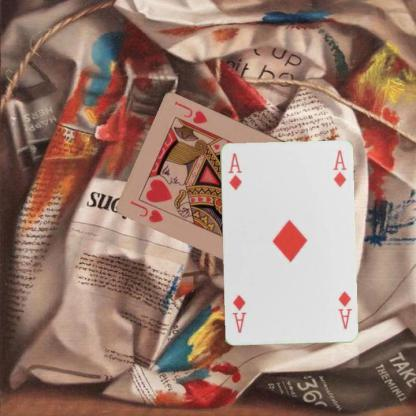Ad: (335, 288, 353, 330), (226, 150, 244, 190)
Jh: (127, 198, 165, 224)
